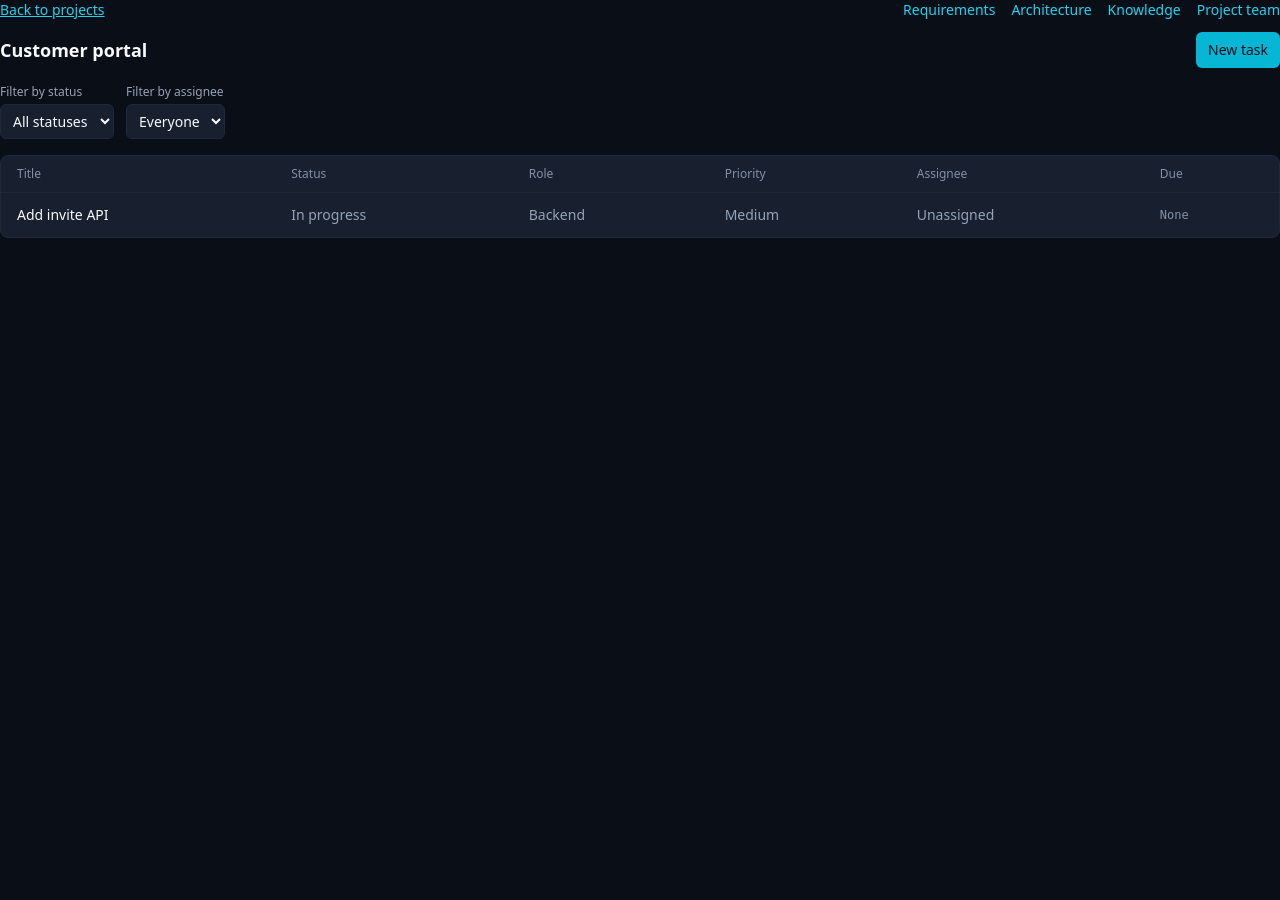
it: task review flow › asks to save edits before submitting
Click the button "Add invite API". click: coordinates (63, 215)
box: [17,205,108,225]
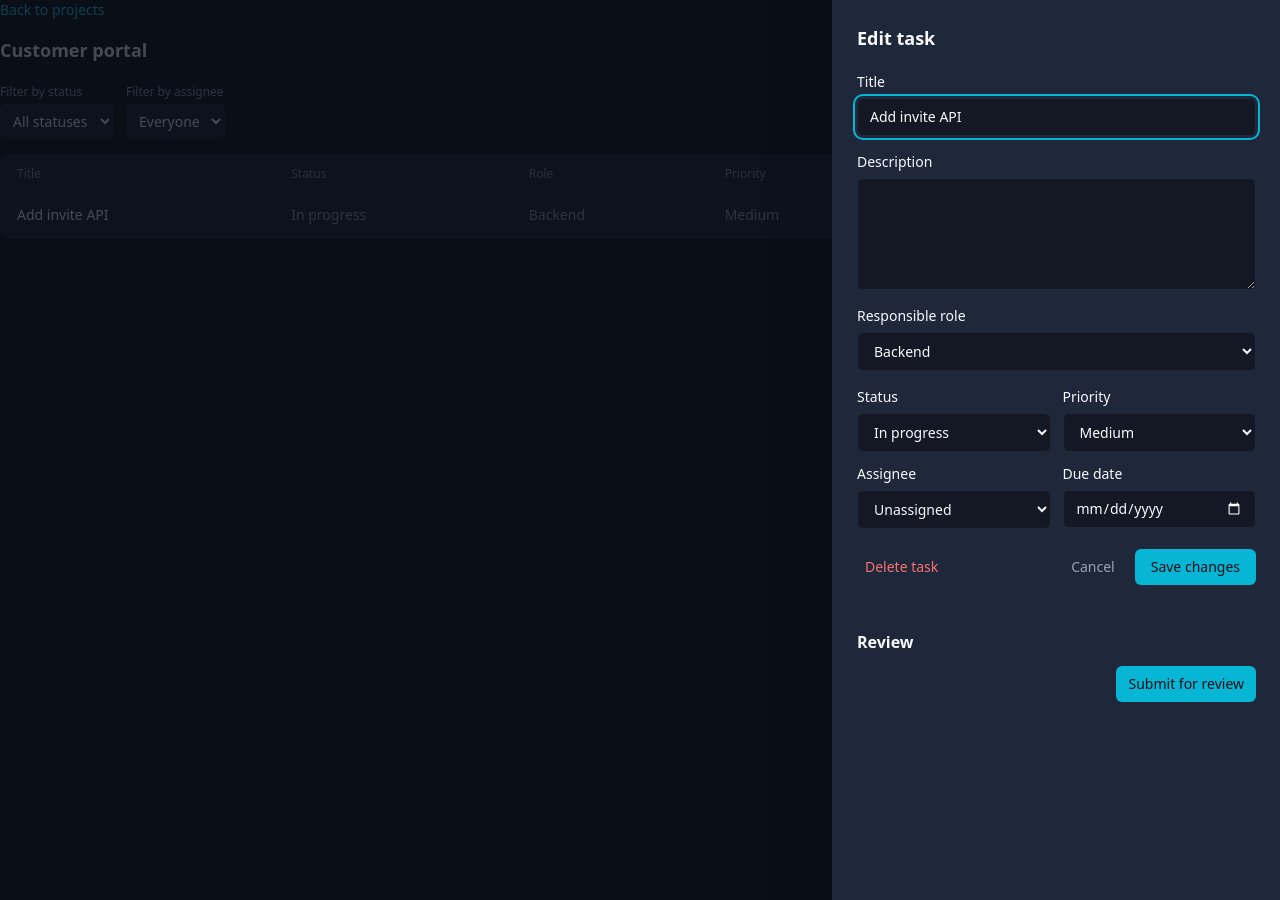
Type " v2" into the field labelled "Title". click: coordinates (1056, 117)
box: [857,98,1256,136]
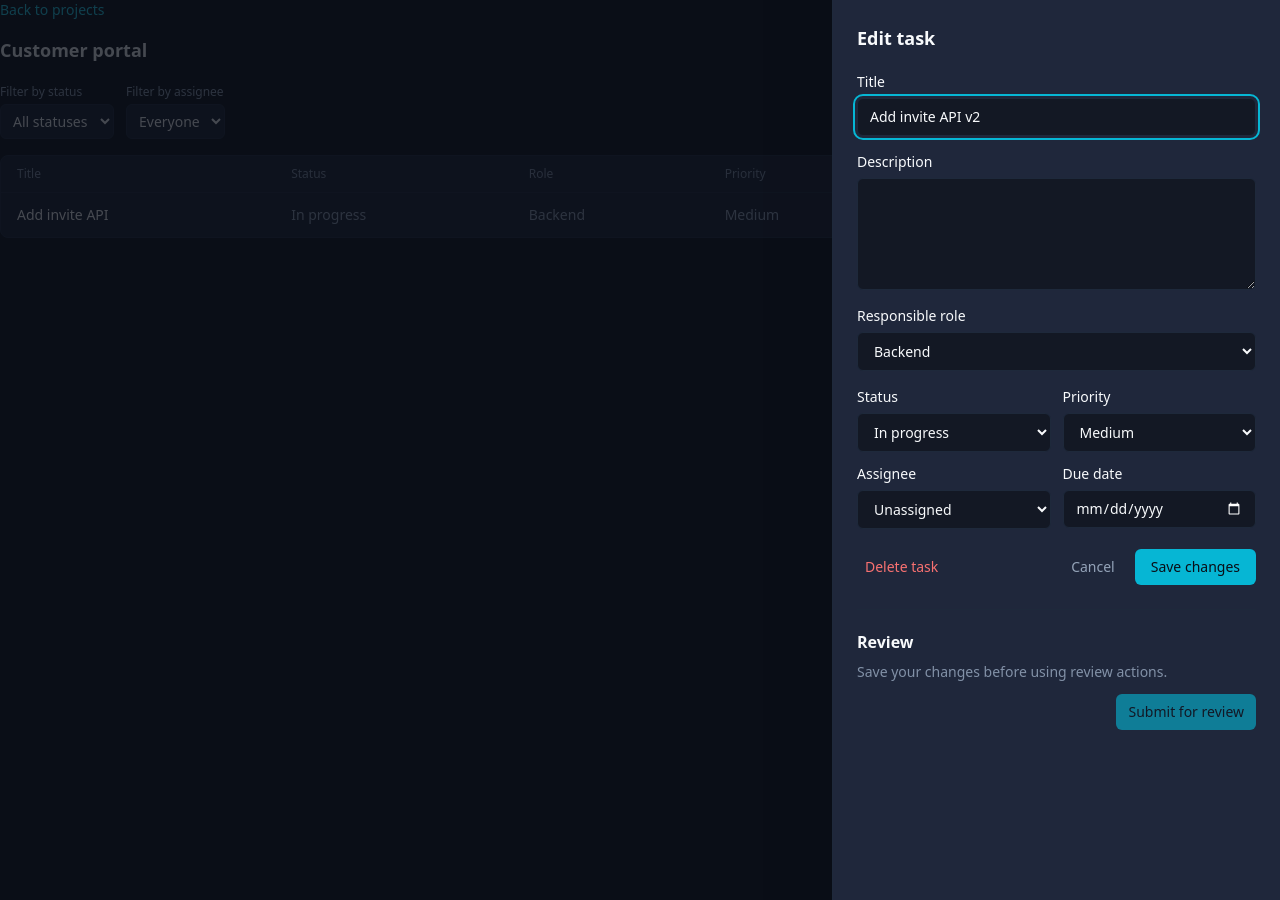
Expected: the button "Submit for review" is disabled, [1116,694,1256,730]
Expected: the text "Save your changes before using review actions." is shown, [857,662,1167,681]
